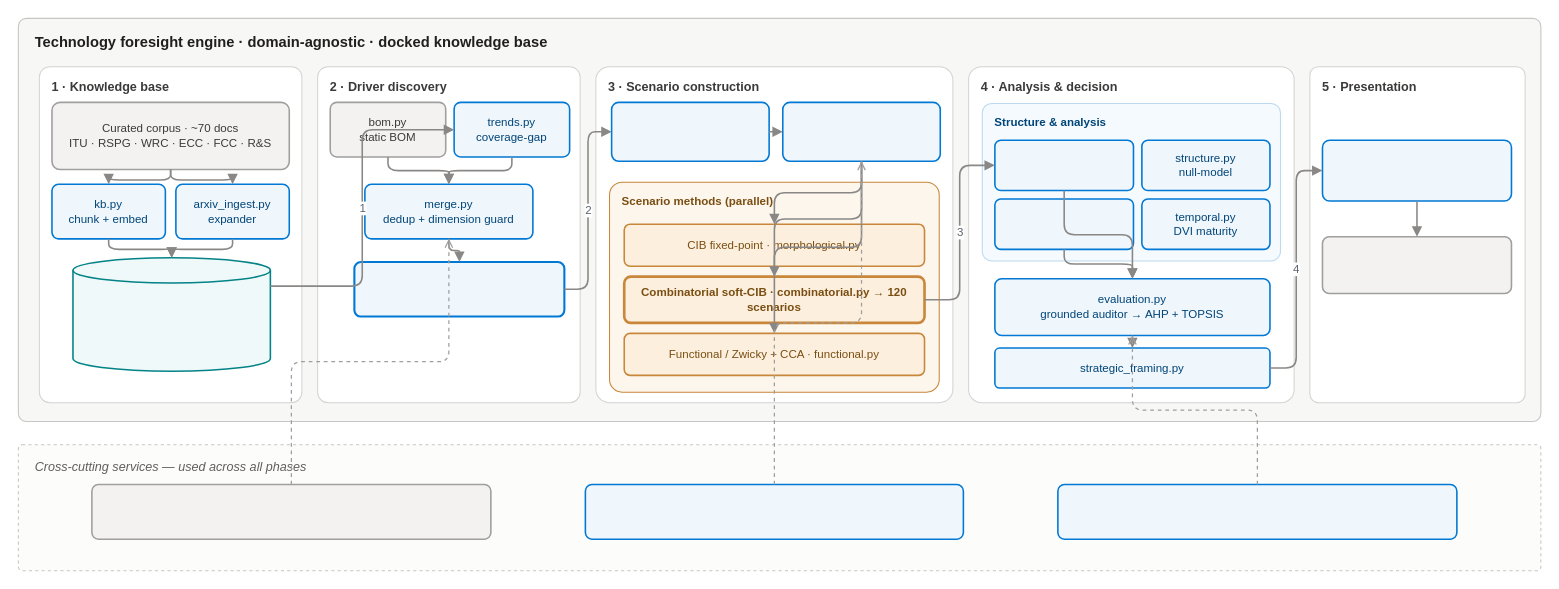
This 1559x589 diagram has some shape labels left out. Here are the shapes that lost their labels. From the top down, the centre of each, then its label:
(689,131): manifestations 4 × 14 = 56
(861,131): cib.py 5-persona · 182 pairs
(1064,165): archetypes.py HDBSCAN → 5
(1416,170): web/app.py FastAPI · read-only
(1064,224): projection.py PCA / UMAP
(1416,265): React dashboard /present · /live
(459,288): 14 selected factors (from 18 unified)
(171,314): ChromaDB · data/.chroma 3,905 chunks product / trend pools
(291,511): domain.py → DomainProfile injected into every prompt
(774,511): src/llm.py — Azure OpenAI pool round-robin · retry · Pydantic-validated
(1257,511): src/rag.py — Chroma retrieval
